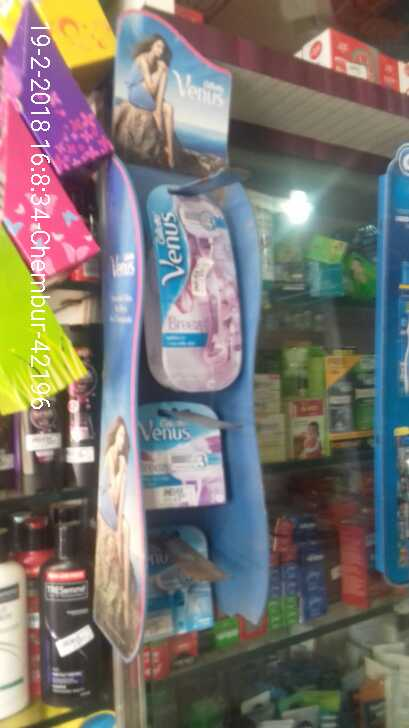venus: (144, 178, 247, 396), (125, 400, 235, 507)
